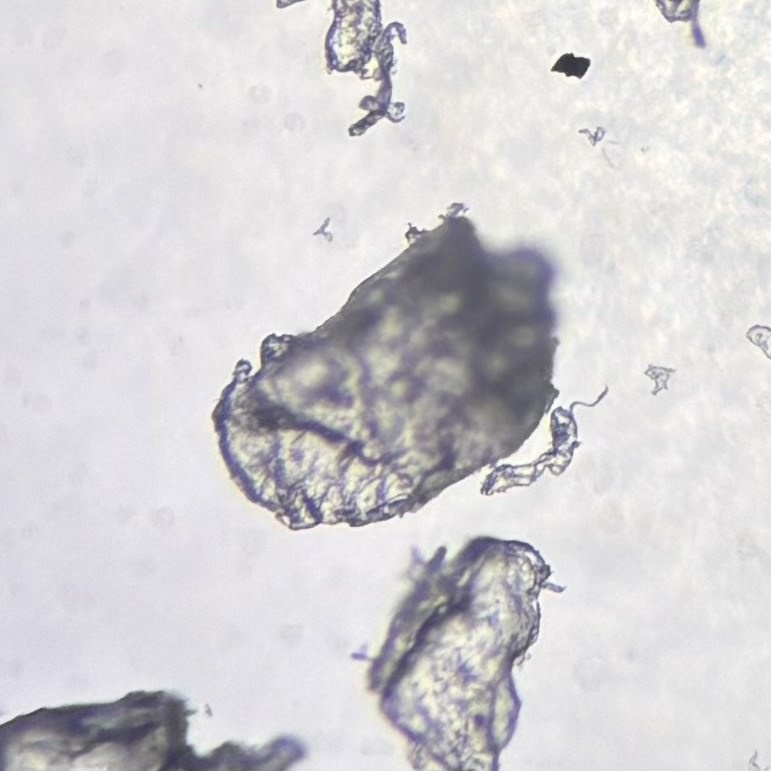microplastic: (211, 202, 561, 531), (349, 535, 567, 771), (1, 689, 308, 771), (276, 1, 407, 136), (480, 385, 610, 497), (652, 1, 709, 49), (549, 51, 592, 78), (644, 363, 676, 394), (745, 324, 771, 359), (577, 123, 606, 147), (312, 216, 333, 241), (748, 749, 771, 771)
